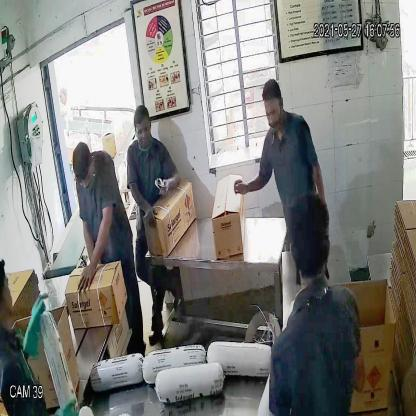no_goggles: (261, 102, 286, 124)
